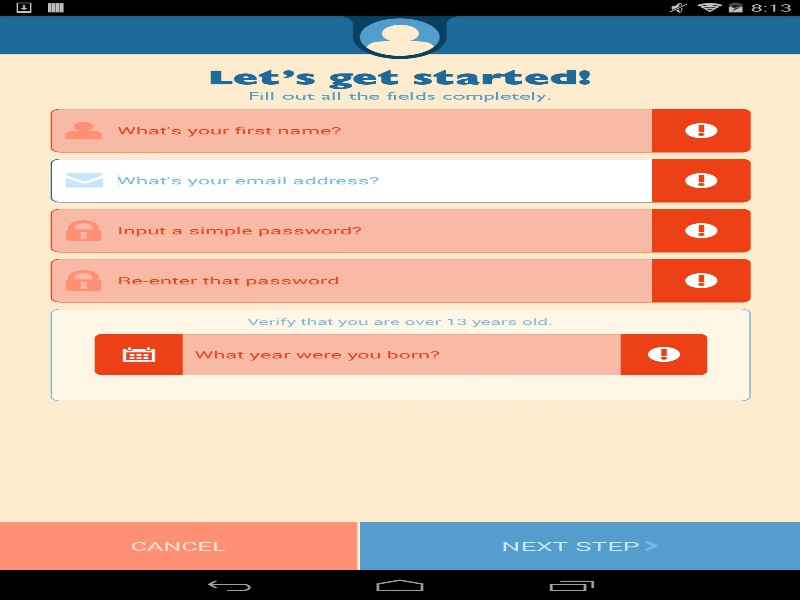Input: (117, 108, 691, 152), (117, 158, 691, 202), (117, 208, 691, 252), (117, 258, 691, 302), (194, 333, 642, 375)
